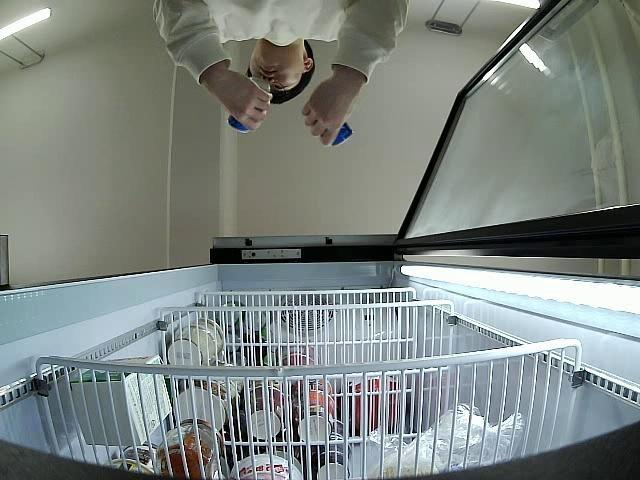15_letsbe: (228, 76, 272, 134), (330, 120, 354, 146)
